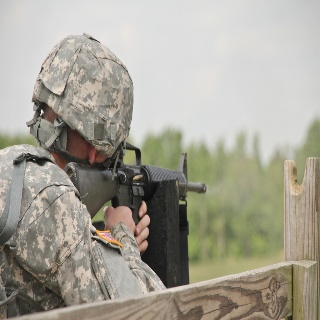rifle: (63, 138, 207, 237)
